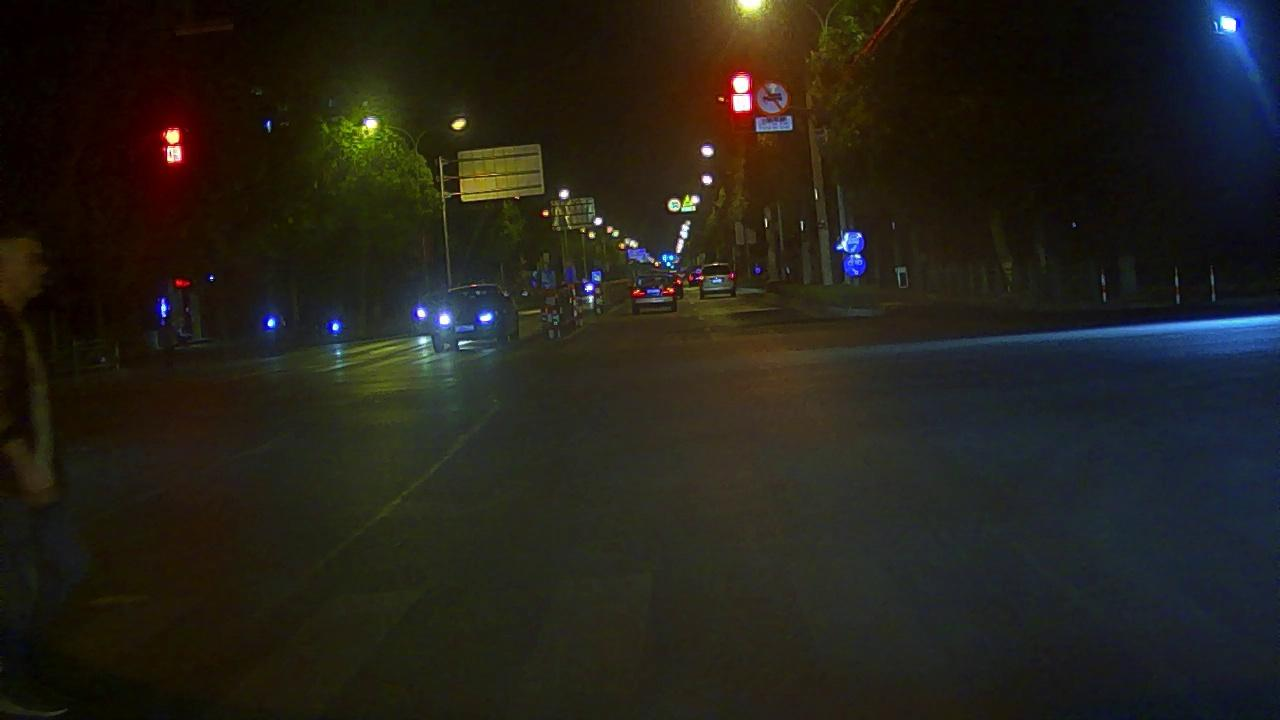traffic_light: (725, 70, 756, 116), (158, 119, 188, 166)
